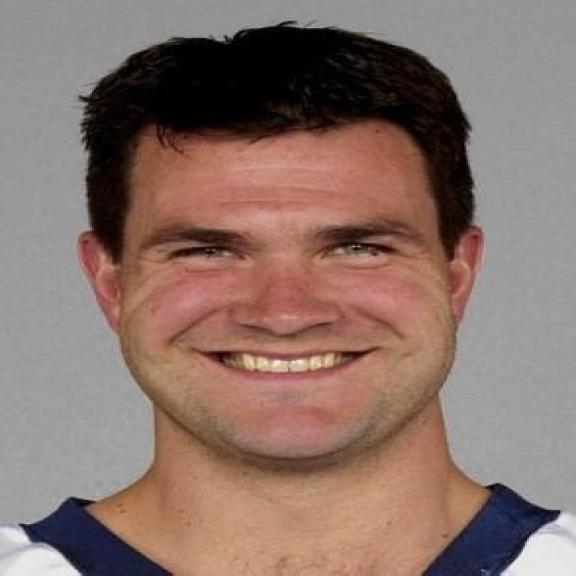face: (74, 99, 485, 470)
